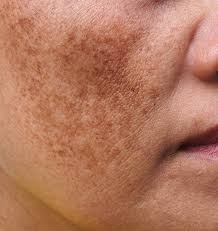Melasma: (2, 2, 153, 190)
